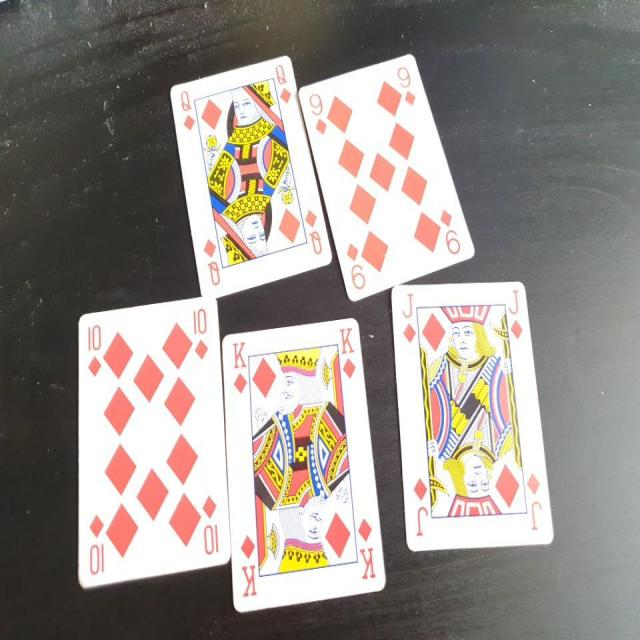10 Diamonds: (76, 292, 230, 588)
9 Diamonds: (296, 49, 477, 302)
J Diamonds: (390, 278, 555, 551)
K Diamonds: (219, 318, 390, 614)
Q Diamonds: (169, 55, 332, 302)
